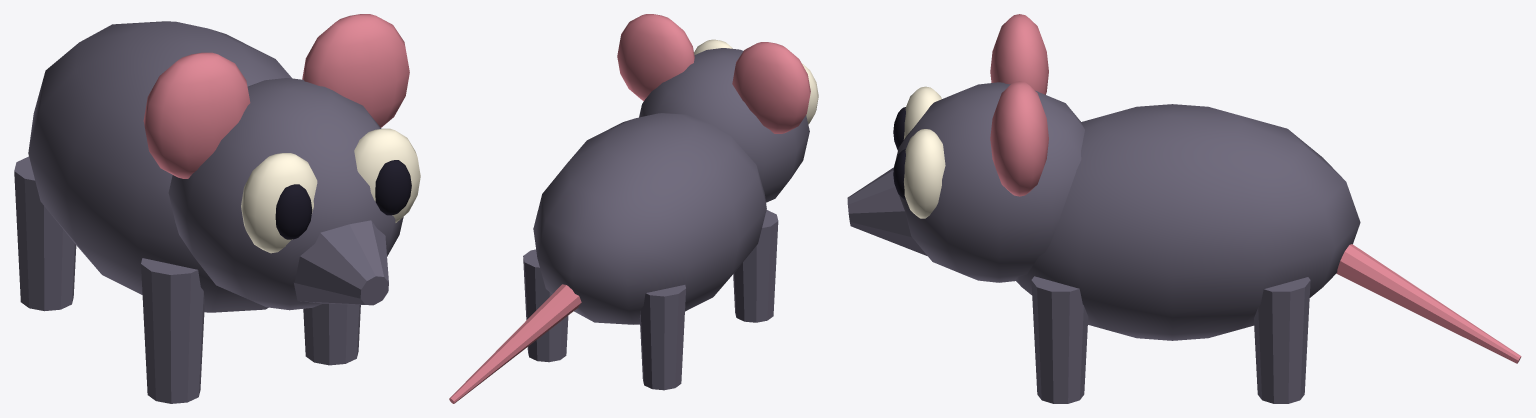
Rendered from rat.glb.
The picture shows the model from 3 angles, left to right: view 1: azimuth 30°, elevation 25°; view 2: azimuth 150°, elevation 25°; view 3: azimuth 270°, elevation 25°; orthographic projection. The views are drawn at different scales.
Visible parts, largest first — view 1: rat.001; view 2: rat.001; view 3: rat.001.
Boxes of the visible parts, x1,y1,x2,y2 form: rat.001: [14, 14, 420, 403]; rat.001: [449, 14, 818, 403]; rat.001: [847, 14, 1521, 403].
Size of the model in its own units: 0.72 by 0.928 by 1.83.
